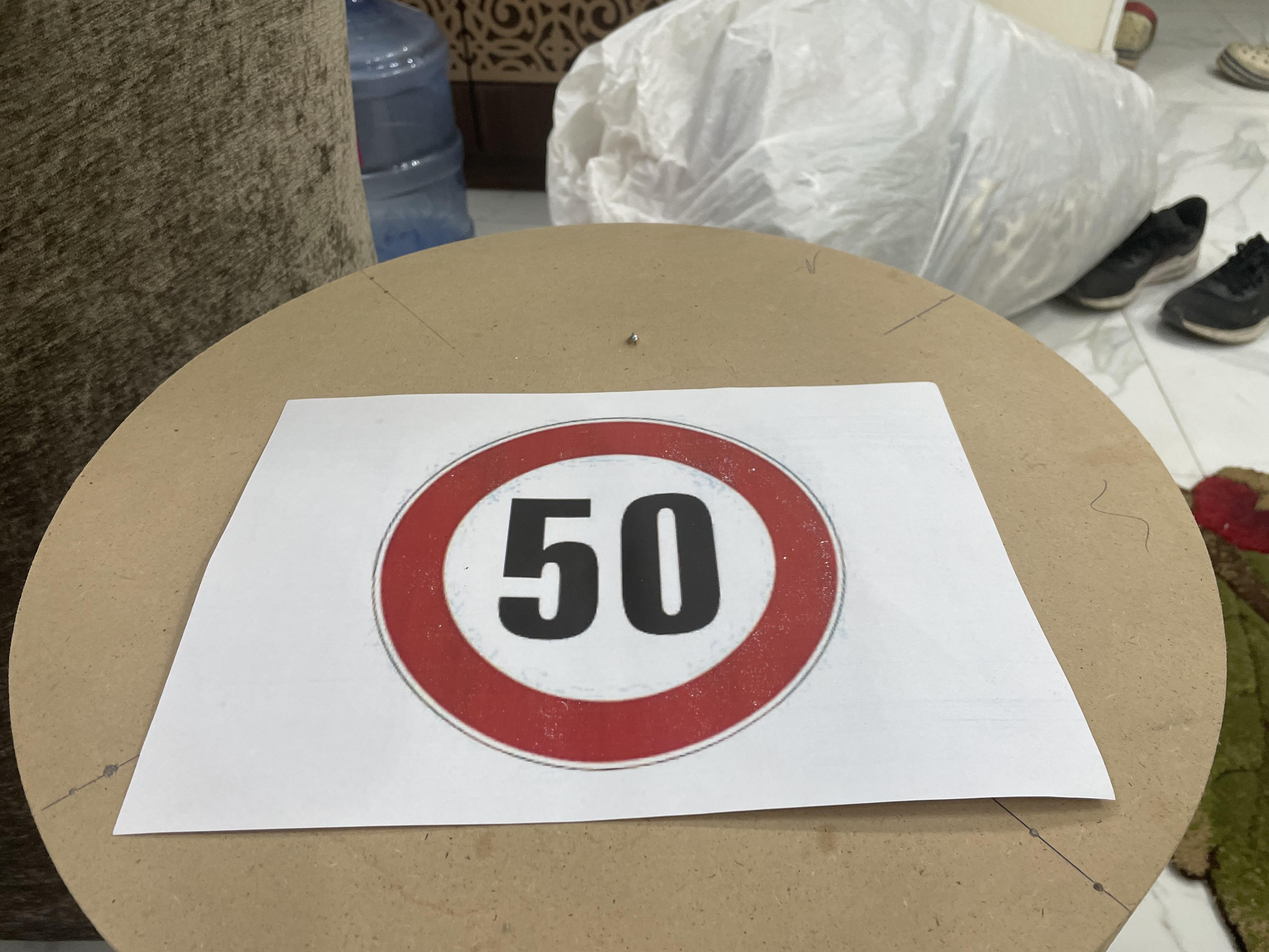50-Speed: (369, 408, 861, 782)
